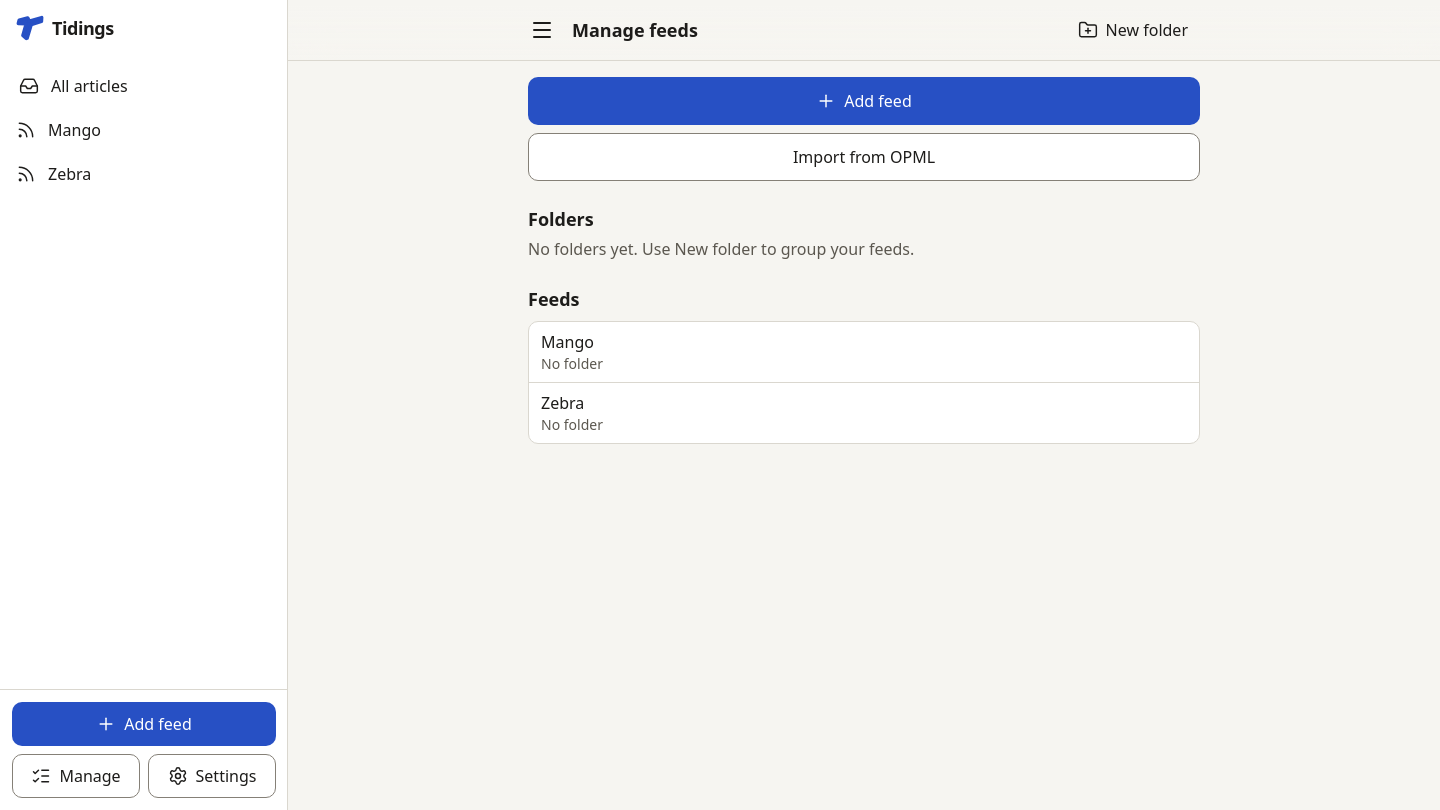
the sheet › Cancel closes it without a request
Expected: the heading "Folders" is shown, [528,207,594,231]
What coordinates should you click on to do the following:
click the button with aria-label "Mango, options"
I would click on:
 (567, 342)
Its box is [529,322,1199,382].
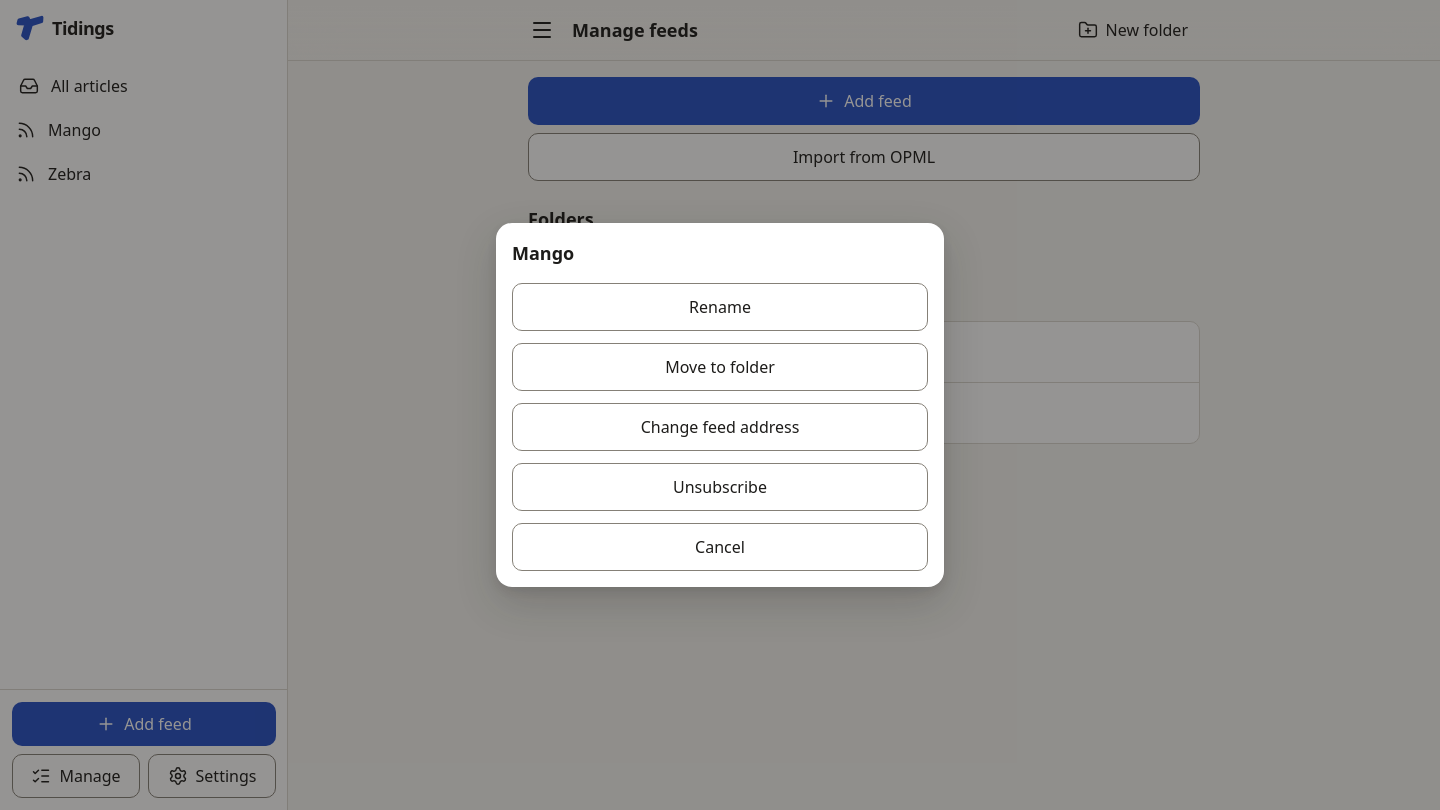
What coordinates should you click on to do the following:
click the button "Change feed address"
I would click on:
 (720, 427)
Its box is [512,403,928,451].
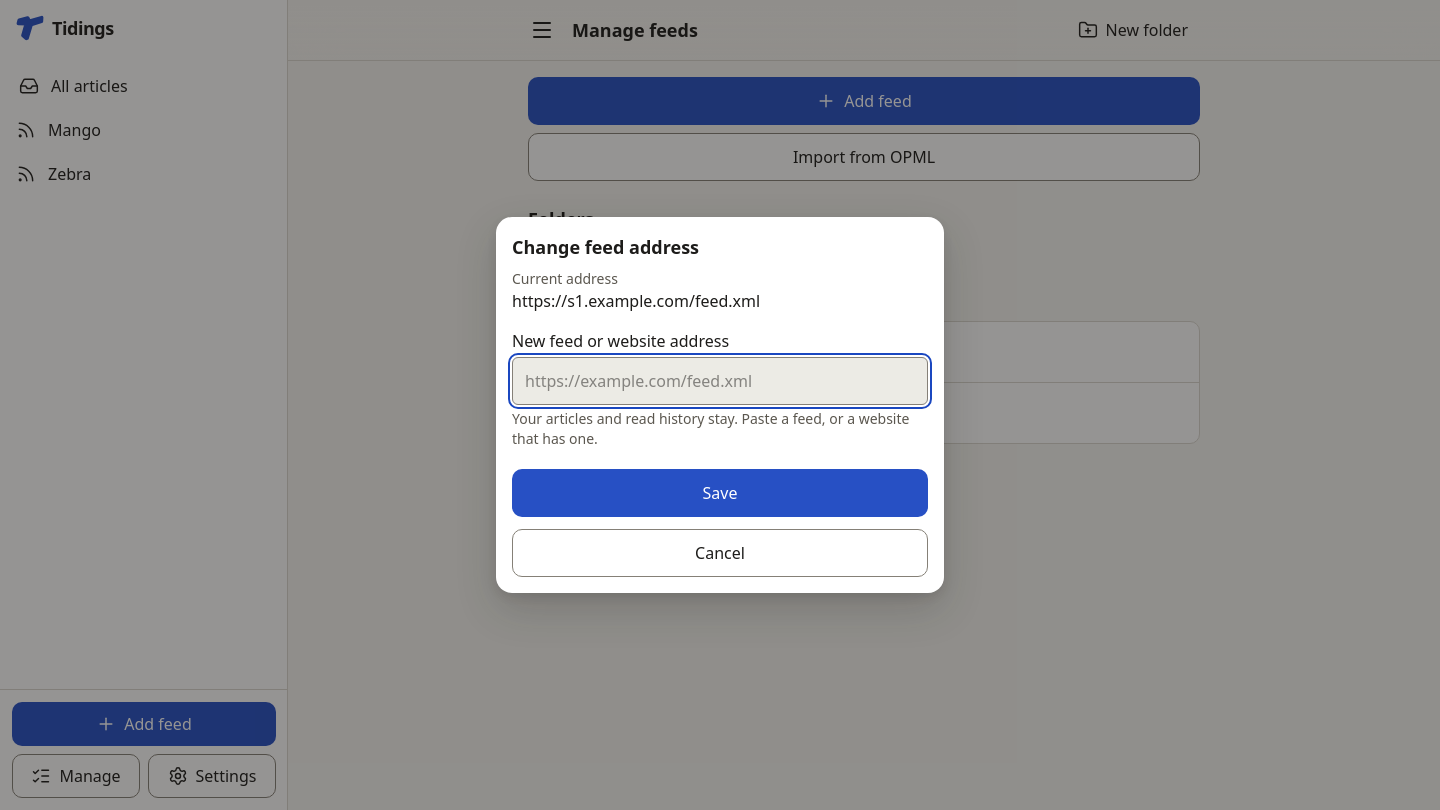
What coordinates should you click on to do the following:
click the button "Cancel"
I would click on:
 (720, 553)
Its box is [512,529,928,577].
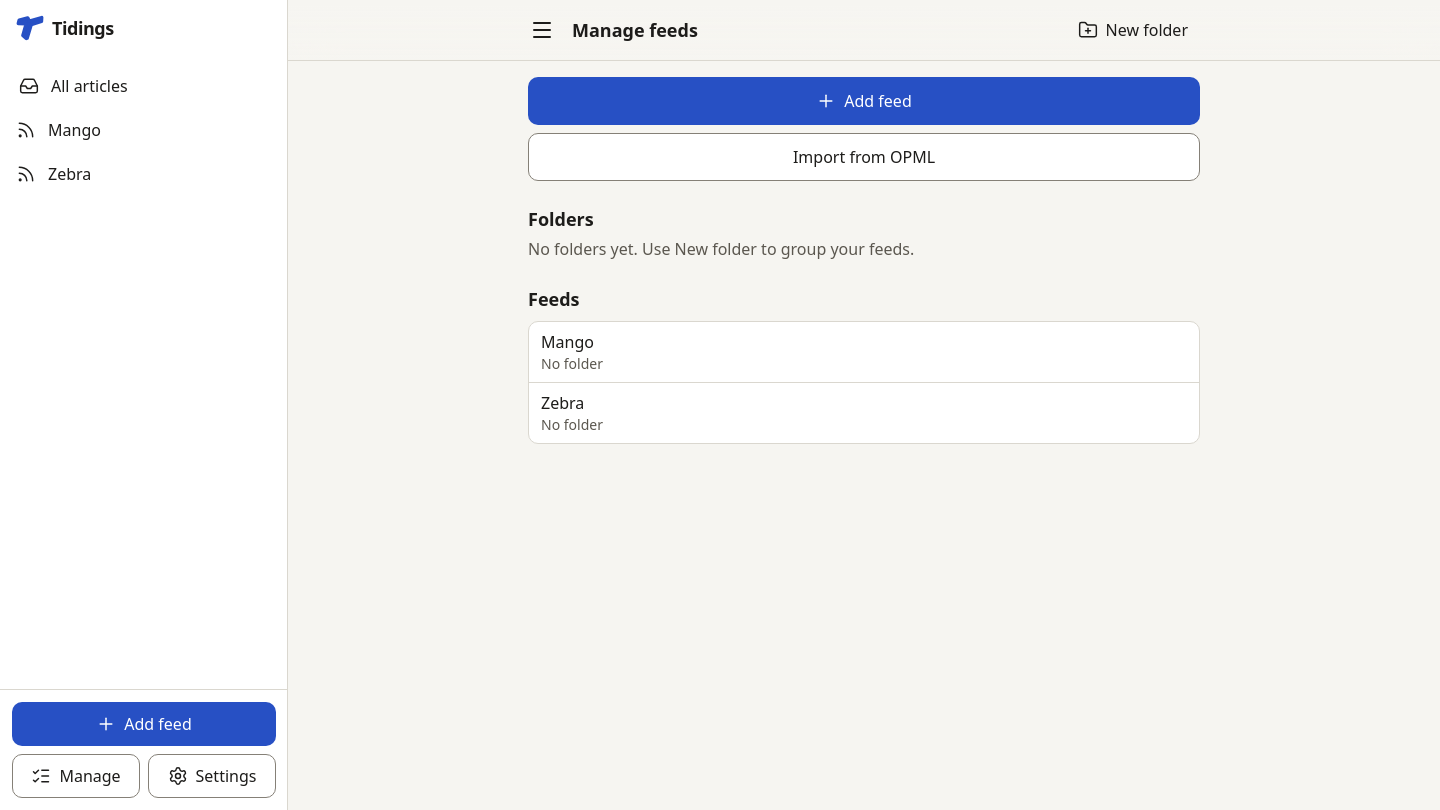
Expected: the dialog is gone
